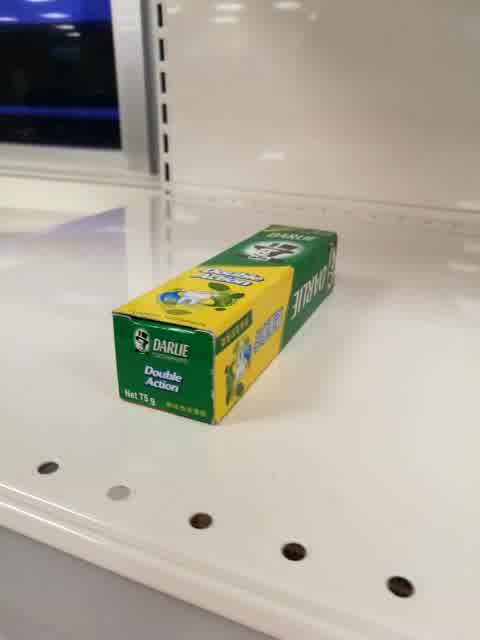toothpaste: (112, 223, 340, 426)
